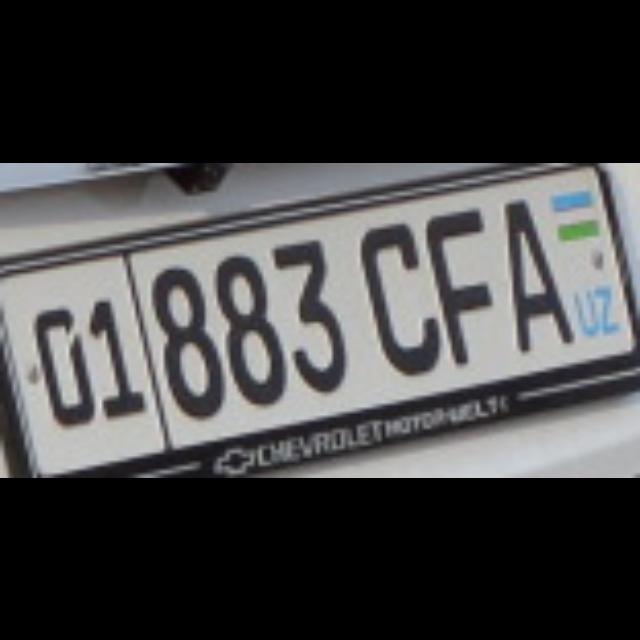0: (28, 302, 90, 424)
1: (86, 294, 140, 416)
3: (271, 236, 341, 388)
8: (148, 260, 218, 412), (209, 248, 279, 400)
A: (500, 195, 566, 347)
C: (357, 219, 435, 371)
F: (422, 203, 488, 363)
